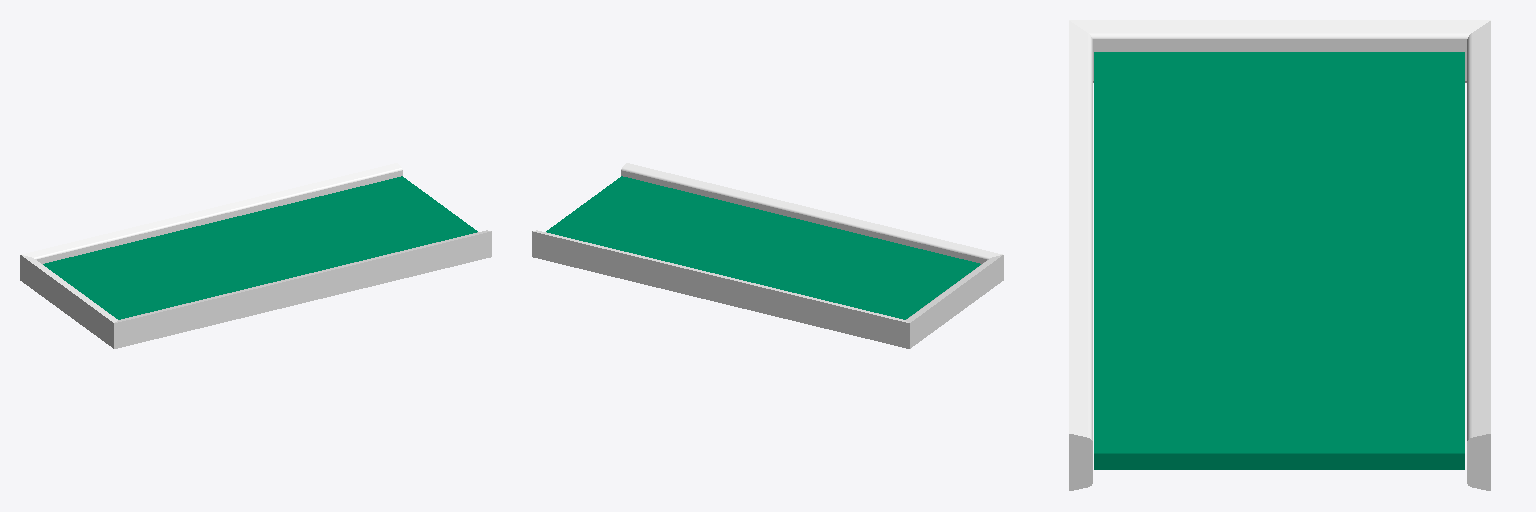
robot.urdf — right-pull-door:
<?xml version="1.0" ?>
<robot name="right-pull-door">
	<link name="base"/>
	<link name="link_0">
		<visual name="out-frame">
			<origin xyz="0 0 0"/>
			<geometry>
				<mesh filename="texture_dae/frame.dae" scale="0.9713214957348445 0.9713214957348445 0.9713214957348445"/>
			</geometry>
		</visual>
		<collision>
			<origin xyz="0 0 0"/>
			<geometry>
				<mesh filename="texture_dae/frame.dae" scale="0.9713214957348445 0.9713214957348445 0.9713214957348445"/>
			</geometry>
		</collision>
	</link>
	<joint name="joint_0" type="fixed">
		<origin rpy="1.570796326794897 0 -1.570796326794897" xyz="0 0 0"/>
		<child link="link_0"/>
		<parent link="base"/>
	</joint>
	<link name="link_1">
		<visual name="surf-board">
			<origin xyz="0.3364220481052682 -0.8222139590333111 0"/>
			<geometry>
				<mesh filename="texture_dae/board.dae" scale="0.9713214957348445 0.9713214957348445 0.9713214957348445"/>
			</geometry>
		</visual>
		<collision>
			<origin xyz="0.3364220481052682 -0.8222139590333111 0"/>
			<geometry>
				<mesh filename="texture_dae/board.dae" scale="0.9713214957348445 0.9713214957348445 0.9713214957348445"/>
			</geometry>
		</collision>
	</link>
	<joint name="joint_1" type="revolute">
		<origin xyz="-0.3364220481052682 0.8222139590333111 0"/>
		<axis xyz="0 -1 0"/>
		<child link="link_1"/>
		<parent link="link_0"/>
		<limit lower="0" upper="1.5079644737231006"/>
	</joint>
	<link name="link_2">
		<visual name="handle">
			<origin xyz="0 0 0"/>
			<geometry>
				<mesh filename="texture_dae/9960045.dae" scale="1.4577458350744945 1.4577458350744945 1.4577458350744945"/>
			</geometry>
		</visual>
		<collision>
			<origin xyz="0 0 0"/>
			<geometry>
				<mesh filename="texture_dae/9960045.dae" scale="1.4577458350744945 1.4577458350744945 1.4577458350744945"/>
			</geometry>
		</collision>
	</link>
	<joint name="joint_2" type="revolute">
		<origin xyz="0.5913171952355616 -0.913874455380389 0.015491619380466132"/>
		<child link="link_2"/>
		<parent link="link_1"/>
		<axis xyz="0 0 1"/>
		<limit lower="0" upper="1.5079644737231006"/>
	</joint>
</robot>

--- Render facts (derived) ---
3 views of the same robot in one strip: view 1: azimuth 30°, elevation 25°; view 2: azimuth 150°, elevation 25°; view 3: azimuth 270°, elevation 25° (orthographic).
Model right-pull-door with 4 links and 3 joints (2 revolute, 1 fixed), rooted at base, posed all joints at 0.
Links seen in each view (by area): view 1: link_1, link_0; view 2: link_1, link_0; view 3: link_1, link_0.
Link boxes in pixels (left/top/right/bottom): link_1: left=43, top=176, right=477, bottom=319; link_0: left=20, top=163, right=491, bottom=348; link_1: left=546, top=176, right=980, bottom=319; link_0: left=532, top=163, right=1003, bottom=348; link_1: left=1094, top=52, right=1464, bottom=469; link_0: left=1069, top=20, right=1490, bottom=490.
Size in the robot's own frame: 1.77 by 0.7608 by 0.1156 metres.
2 mesh visuals loaded from 3 distinct referenced files (2 Collada DAE); not drawn: 1 (file found but could not be loaded).
